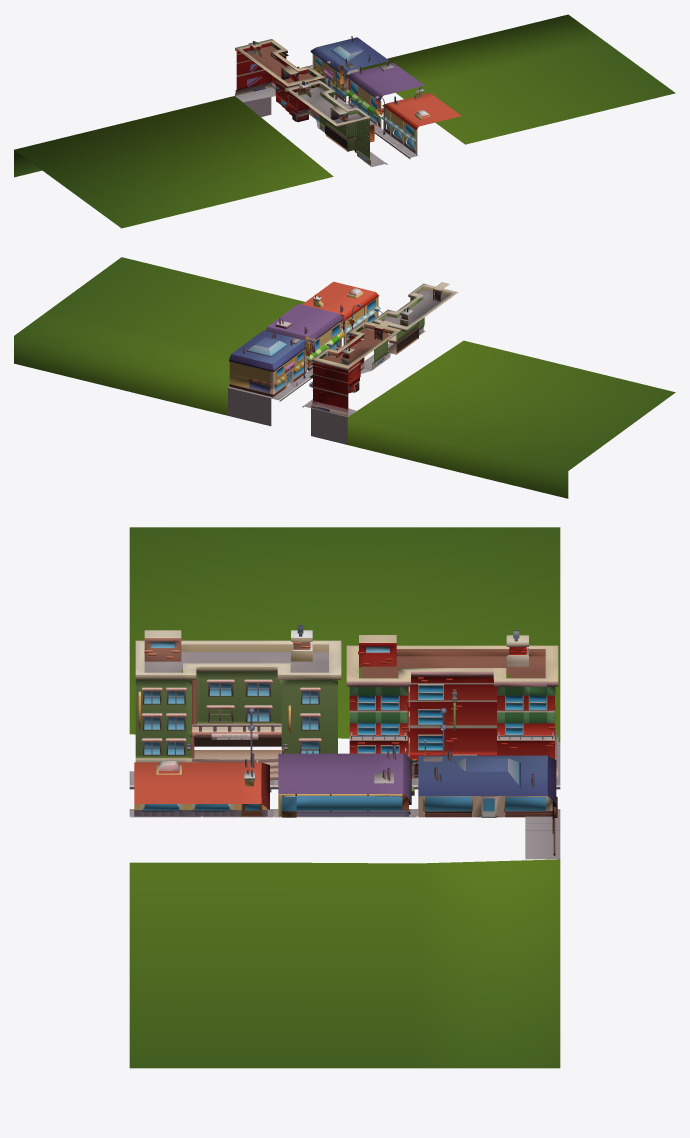
Rendered from Tom1_CityShopSet01_30.fbx.
3 renders of one model, top to bottom at view 1: azimuth 30°, elevation 25°; view 2: azimuth 150°, elevation 25°; view 3: azimuth 270°, elevation 25°, orthographic. The views are drawn at different scales.
Parts seen in each view (by area): view 1: Tom1_CityShopSet01_30; view 2: Tom1_CityShopSet01_30; view 3: Tom1_CityShopSet01_30.
Boxes of the visible parts, bbox=[...] form: Tom1_CityShopSet01_30: bbox=[14, 14, 675, 228]; Tom1_CityShopSet01_30: bbox=[14, 257, 675, 498]; Tom1_CityShopSet01_30: bbox=[129, 527, 560, 1068].
Bounding box in the file's own units: 8921 × 1357 × 3000.
